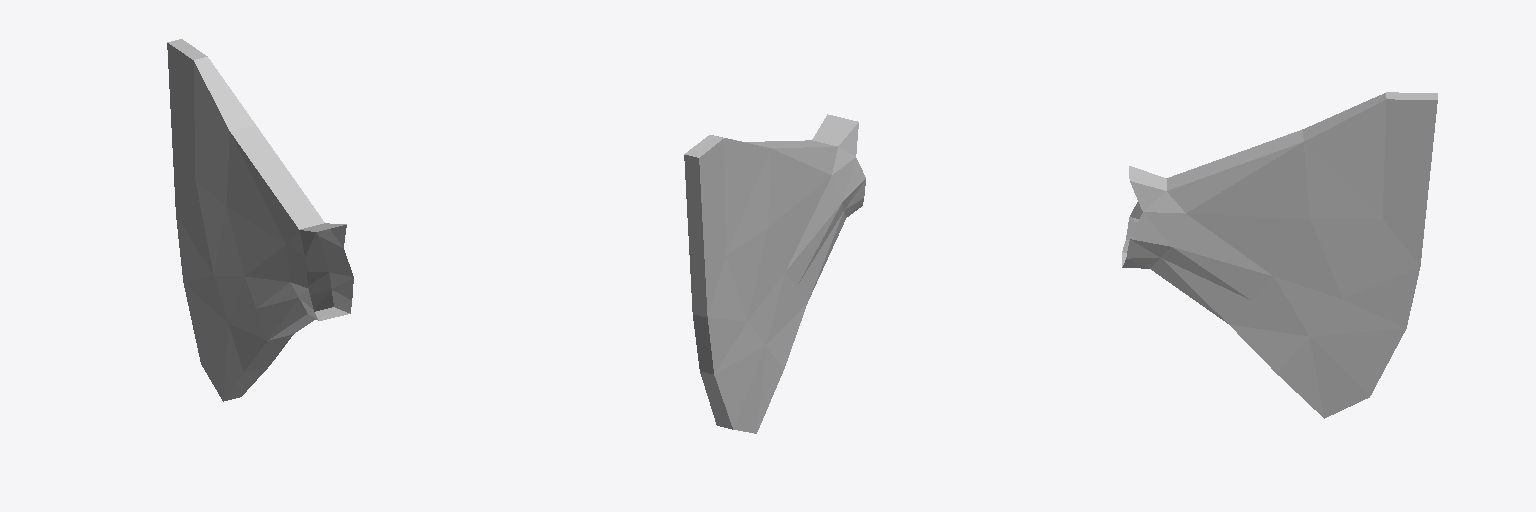
Rendered from cola_pez.obj.
The picture shows the model from 3 angles: view 1: azimuth 30°, elevation 25°; view 2: azimuth 150°, elevation 25°; view 3: azimuth 270°, elevation 25°; orthographic projection.
Parts seen in each view (by area): view 1: polySurface2 TropicalFish06:TropicalFish05; view 2: polySurface2 TropicalFish06:TropicalFish05; view 3: polySurface2 TropicalFish06:TropicalFish05.
Part boxes in pixels (x1,y1,x2,y2): polySurface2 TropicalFish06:TropicalFish05: (167,39,353,401); polySurface2 TropicalFish06:TropicalFish05: (684,114,865,433); polySurface2 TropicalFish06:TropicalFish05: (1122,92,1437,418).
Size of the model in its own units: 0.3921 by 2.6 by 2.34.